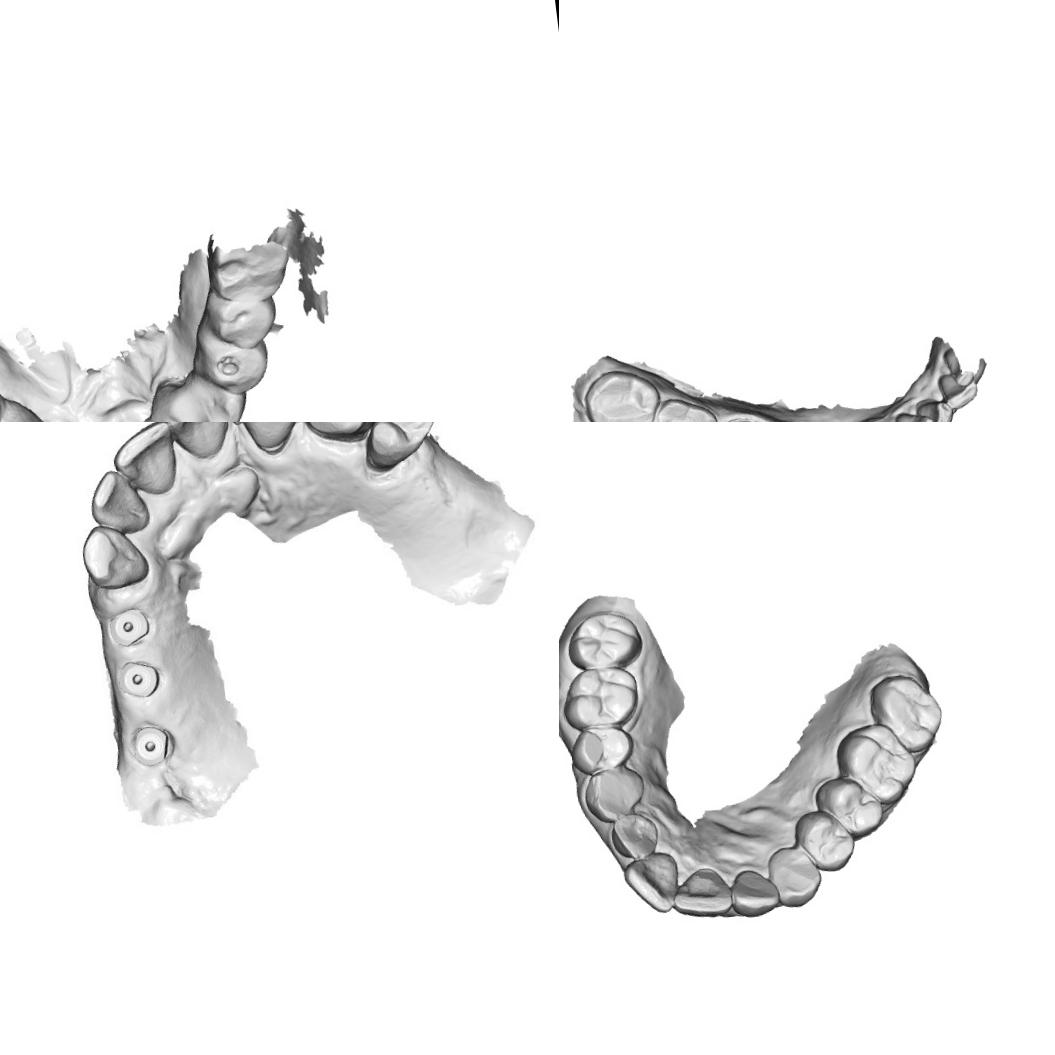canine: (79, 519, 149, 594), (580, 763, 650, 828), (764, 842, 826, 912), (190, 379, 250, 422), (298, 422, 375, 445)
implant: (123, 716, 186, 772), (116, 654, 168, 702), (108, 606, 156, 652)
incisor: (112, 422, 178, 498), (619, 848, 683, 919), (86, 471, 151, 534), (668, 863, 736, 923), (604, 808, 664, 865), (726, 864, 782, 921), (225, 422, 307, 456), (167, 422, 230, 457), (934, 368, 980, 414), (914, 395, 954, 422), (890, 405, 938, 422)
molar: (830, 717, 922, 810), (862, 667, 947, 758), (559, 662, 643, 734), (562, 607, 646, 674), (579, 364, 667, 422), (641, 391, 725, 422)
premolar: (199, 285, 281, 357), (810, 770, 886, 846), (198, 337, 277, 403), (790, 804, 860, 876), (566, 719, 638, 779), (365, 422, 433, 456)
